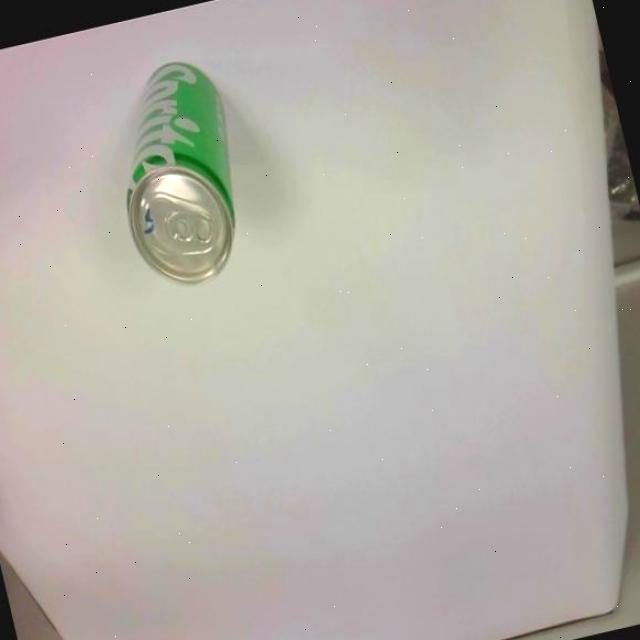debris: (95, 51, 262, 298)
